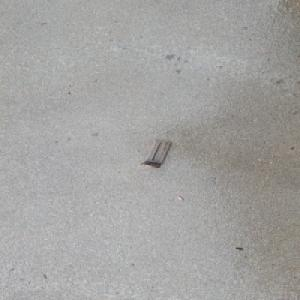MetalPart: (138, 139, 172, 168)
